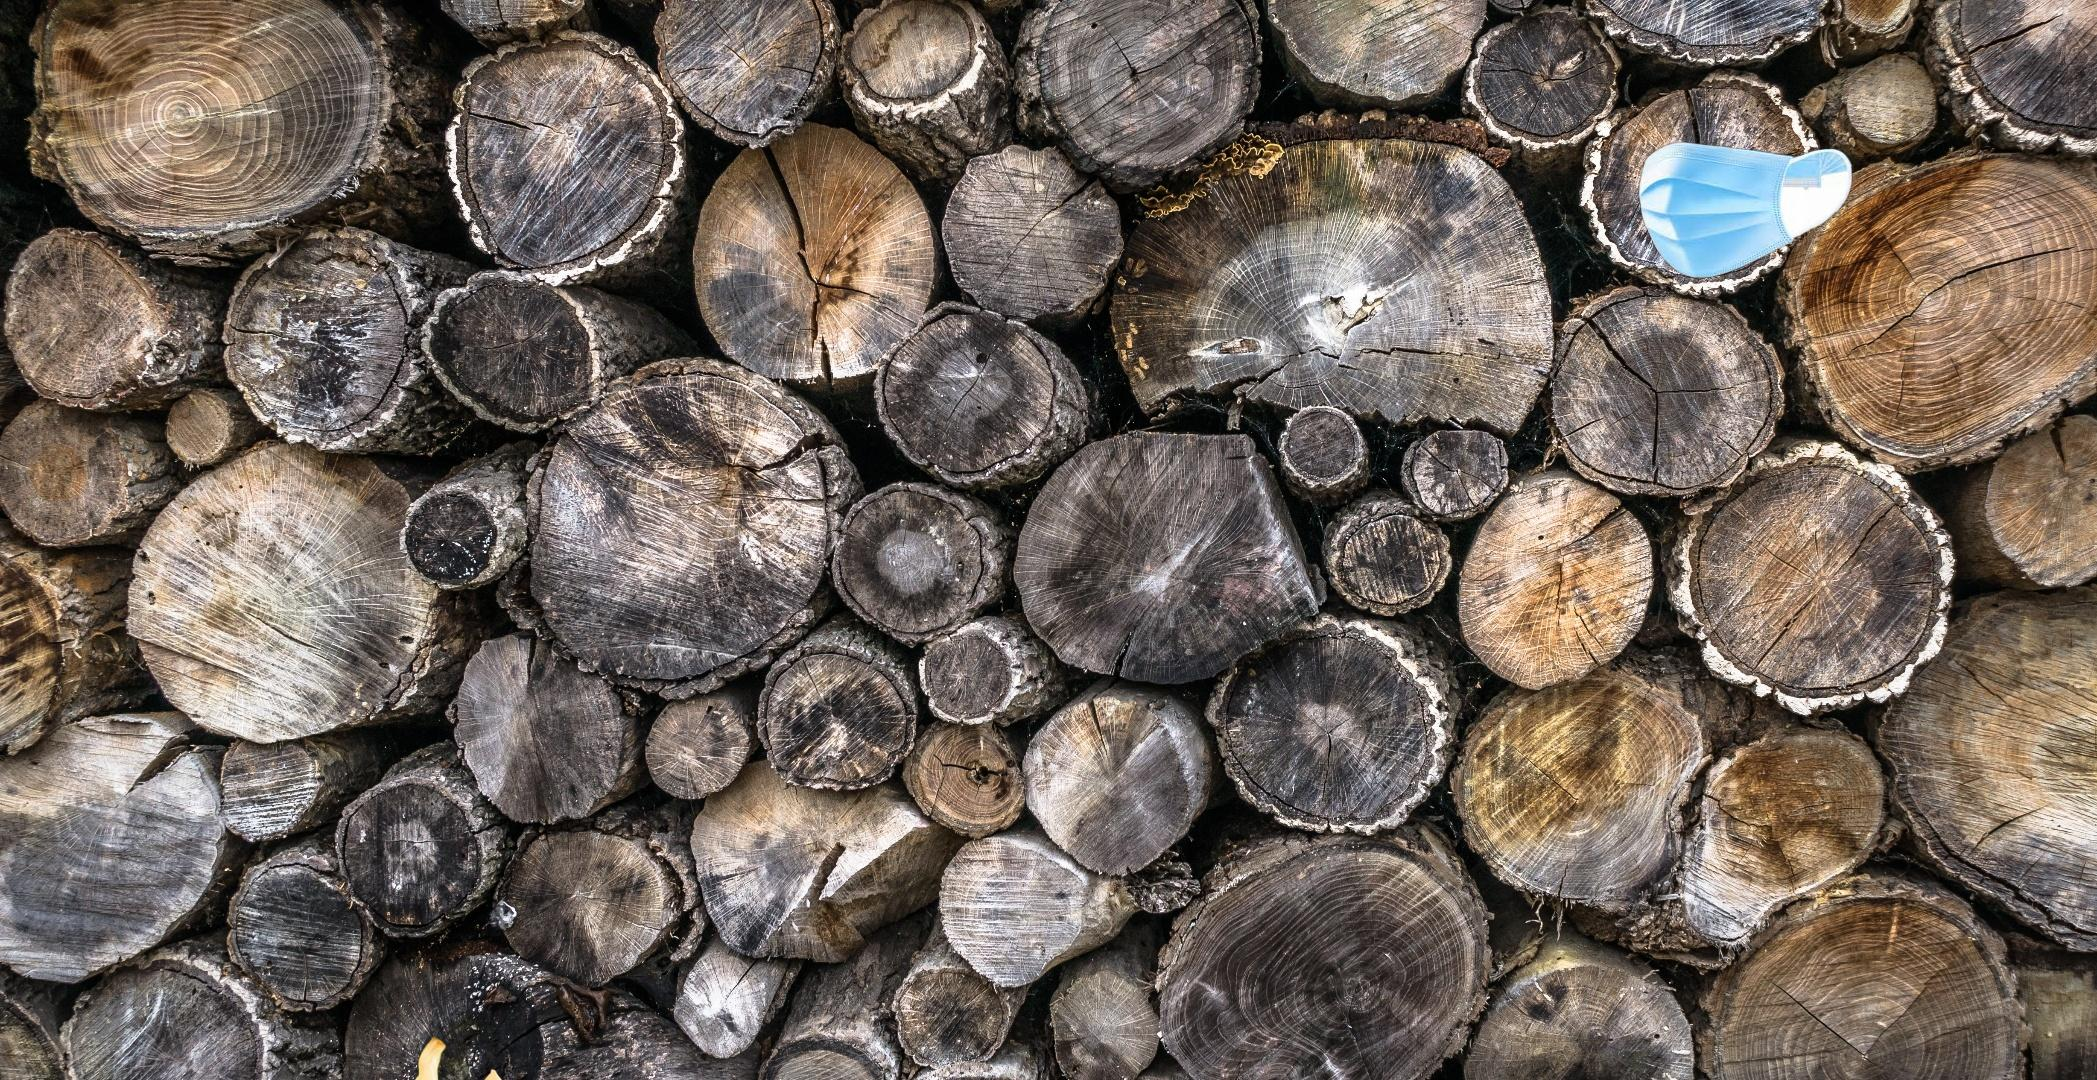plastic-bag: (330, 959, 527, 1080)
trash: (1636, 139, 1856, 281)
